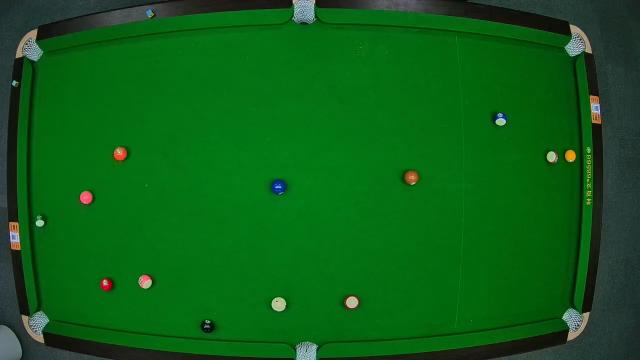bag1: (22, 38, 42, 62)
bag2: (293, 1, 317, 25)
bag3: (566, 34, 586, 56)
bag4: (27, 310, 47, 332)
bag5: (294, 340, 318, 360)
bag6: (563, 308, 583, 332)
ball0: (272, 296, 286, 312)
ball1: (564, 149, 576, 163)
ball10: (493, 112, 507, 126)
ball11: (344, 294, 360, 310)
ball12: (138, 274, 154, 288)
ball14: (34, 212, 46, 228)
ball15: (545, 150, 559, 164)
ball2: (270, 178, 288, 196)
ball3: (100, 277, 114, 291)
ball4: (80, 190, 92, 206)
ball5: (113, 146, 127, 160)
ball7: (404, 169, 420, 185)
ball8: (200, 318, 216, 334)
